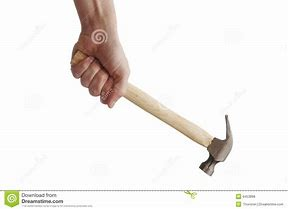hammer: (69, 46, 235, 178)
